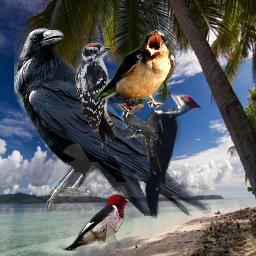Crow: (14, 27, 211, 216)
Swallow: (94, 29, 176, 108)
Woodpecker: (117, 90, 204, 219), (61, 193, 136, 251), (74, 43, 115, 147), (114, 103, 158, 157)
